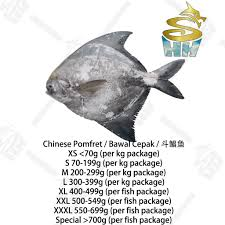Ikan Bawal: (37, 27, 187, 138)
